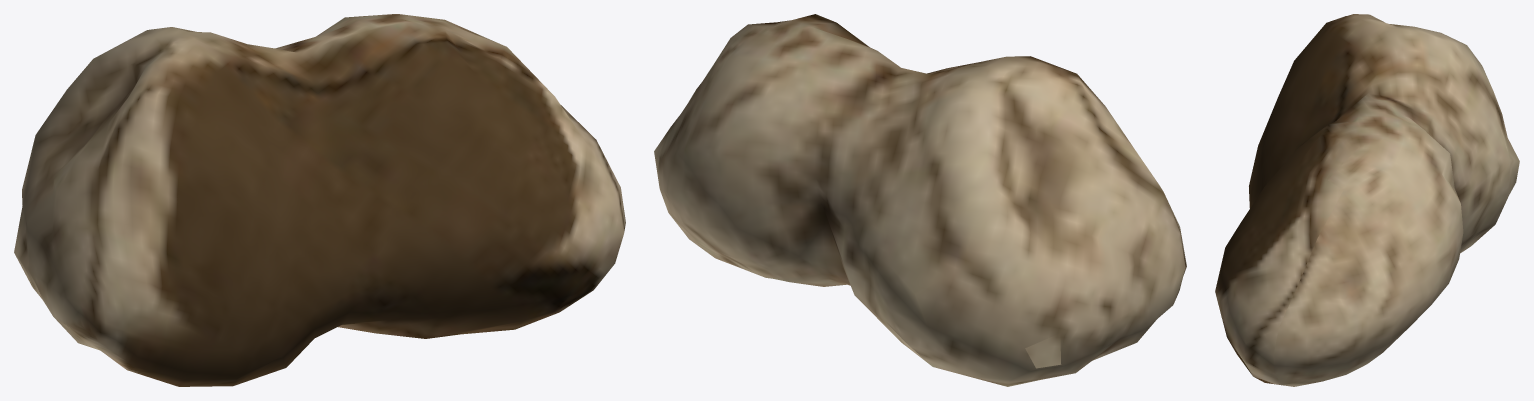
Rendered from Sesamoids.glb.
The picture shows the model from 3 angles, left to right: view 1: azimuth 30°, elevation 25°; view 2: azimuth 150°, elevation 25°; view 3: azimuth 270°, elevation 25°; orthographic projection. The views are drawn at different scales.
Parts seen in each view (by area): view 1: R_Frt_Sesamoids; view 2: R_Frt_Sesamoids; view 3: R_Frt_Sesamoids.
Part boxes in pixels (x1,y1,x2,y2): R_Frt_Sesamoids: [14, 14, 625, 386]; R_Frt_Sesamoids: [654, 14, 1186, 386]; R_Frt_Sesamoids: [1215, 14, 1519, 386].
Bounding box in the file's own units: 0.0632 × 0.0358 × 0.0386.
Materials: 1 (1 with a texture image).
